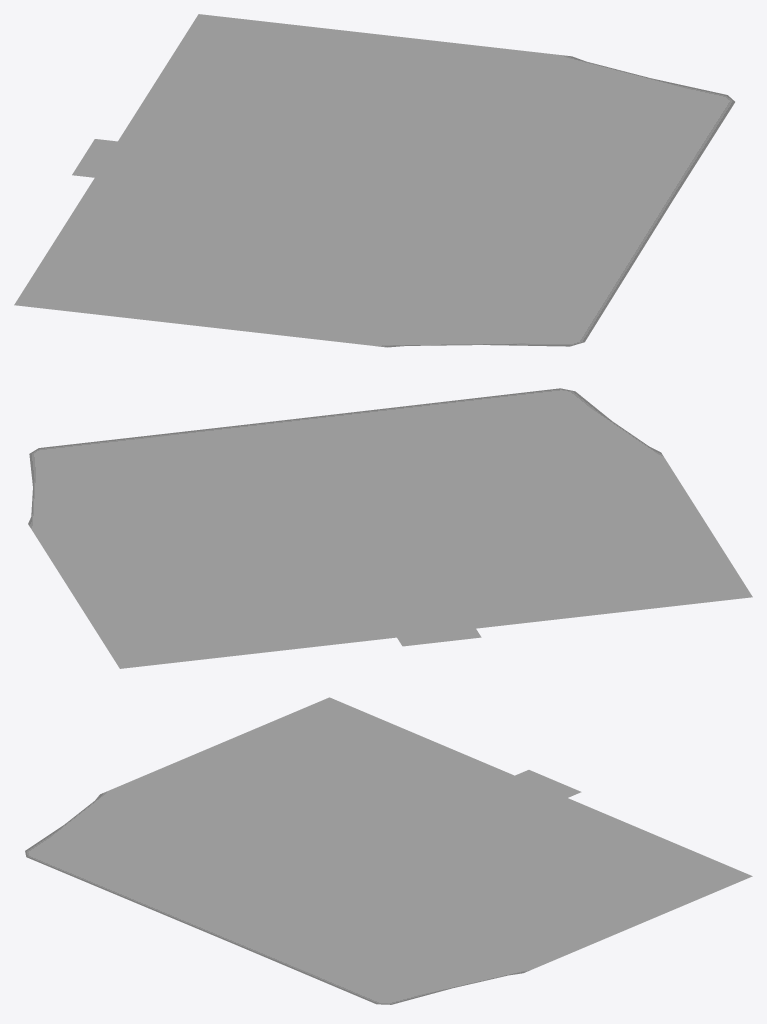
3 views of the same model, one above another, from view 1: azimuth 30°, elevation 25°; view 2: azimuth 150°, elevation 25°; view 3: azimuth 270°, elevation 25° (orthographic). The views are drawn at different scales.
Parts seen in each view (by area): view 1: Joint_0_Object_0; view 2: Joint_0_Object_0; view 3: Joint_0_Object_0.
Boxes of the visible parts, left/top/right/bottom form: Joint_0_Object_0: left=14, top=14, right=734, bottom=347; Joint_0_Object_0: left=28, top=388, right=752, bottom=668; Joint_0_Object_0: left=25, top=697, right=752, bottom=1004.
Bounding box in the file's own units: 426 × 0 × 426.
